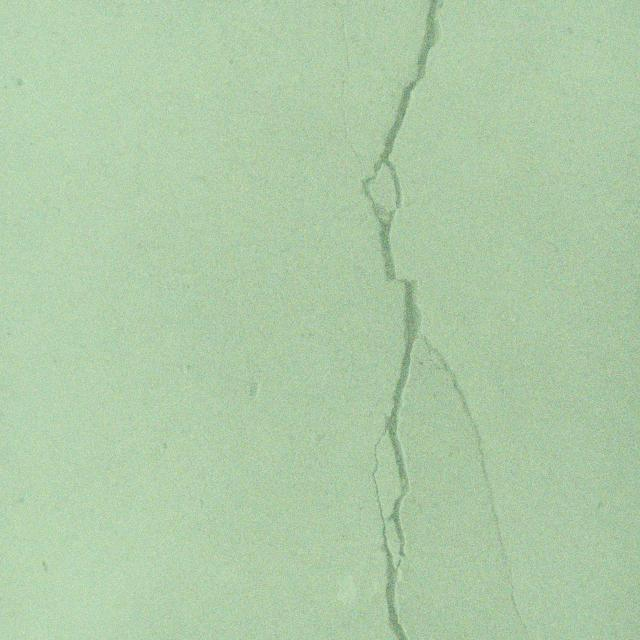crack: (321, 0, 531, 640)
